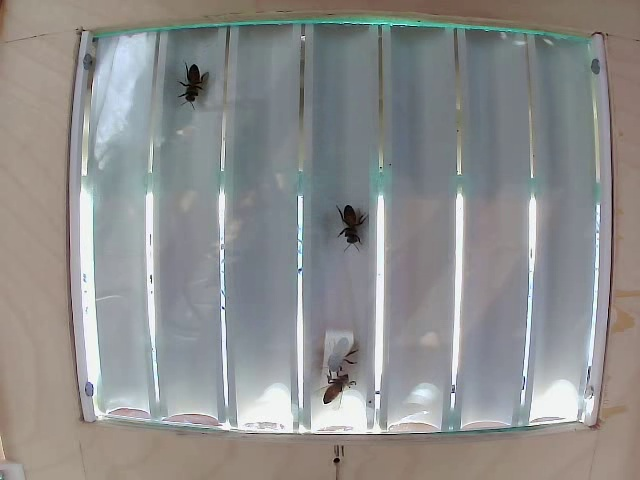bee: (178, 55, 226, 107), (331, 206, 373, 260), (319, 332, 361, 368), (315, 370, 351, 399)
